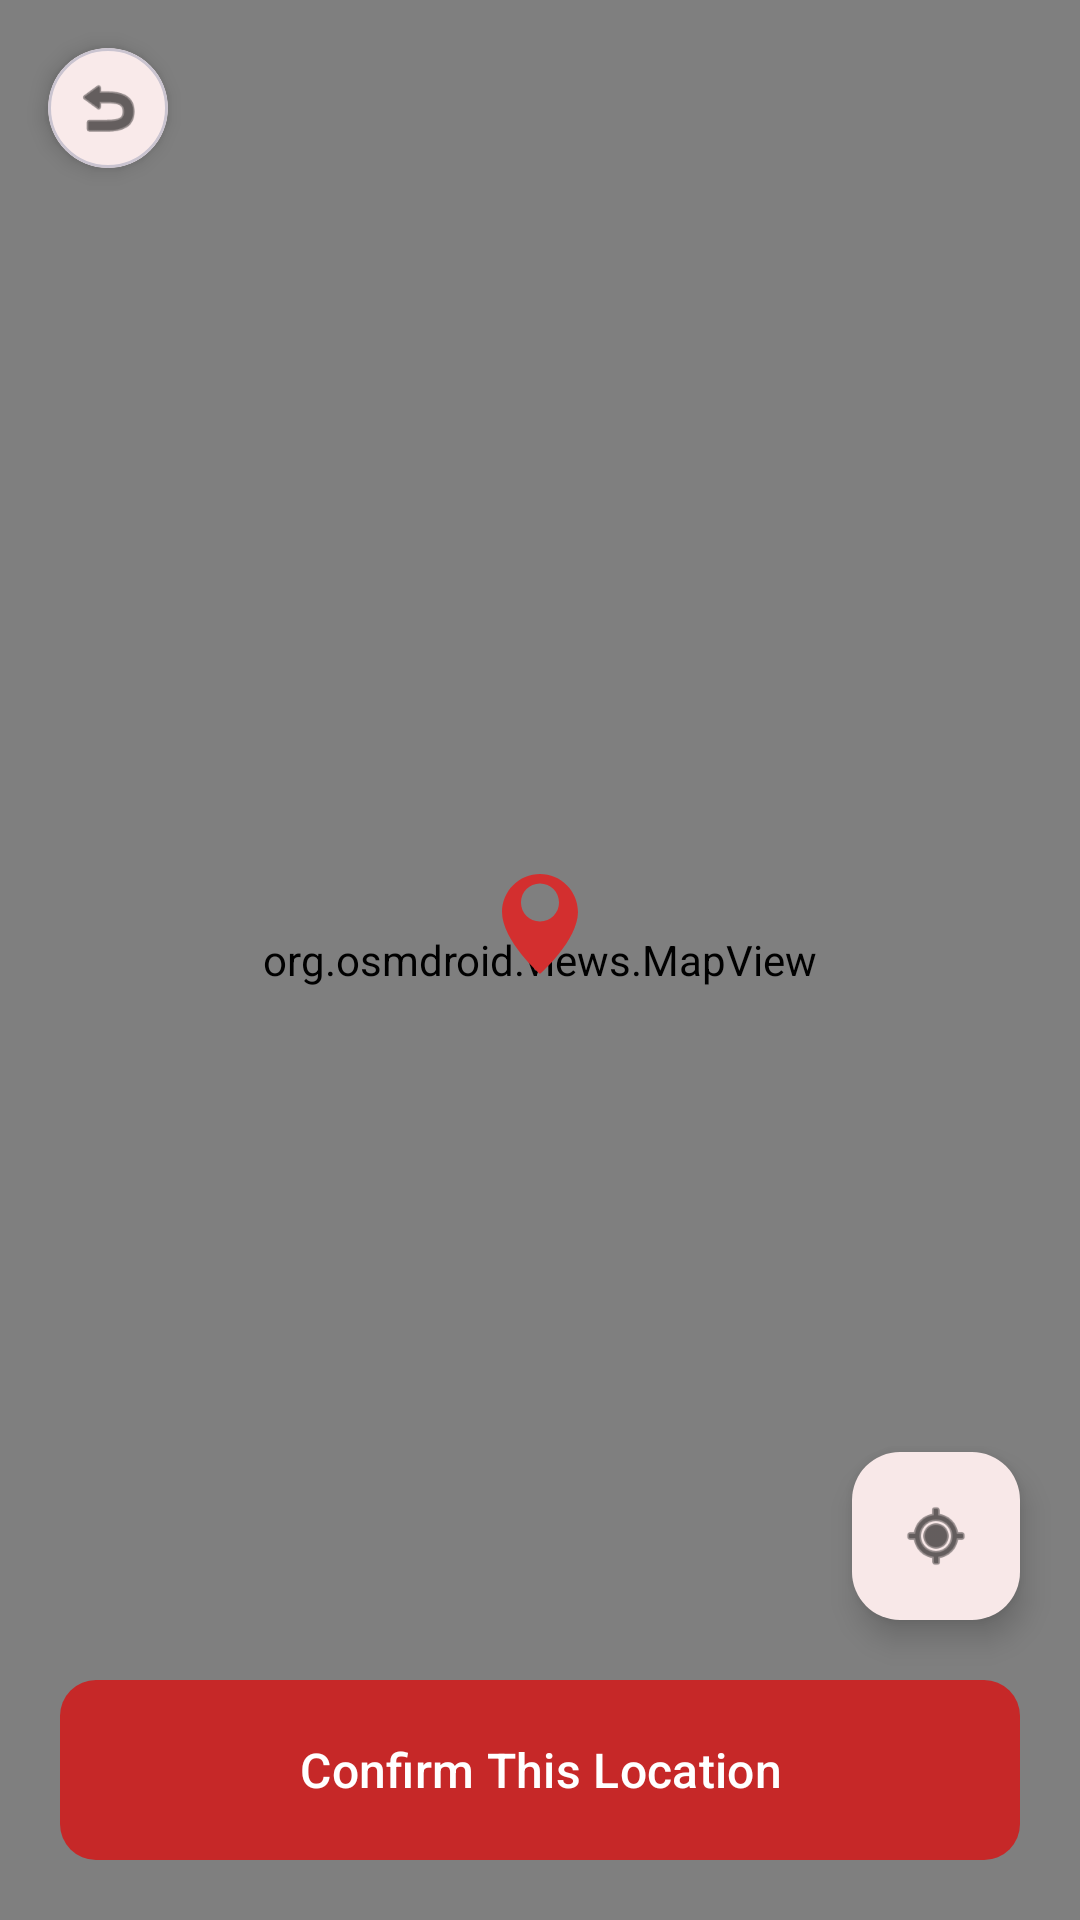

Icons on this 1080px x 1920px Android screen, each with the point to tap as (x=x, y=y):
location: (x=530, y=925)
mylocation: (x=936, y=1536)
revert: (x=109, y=108)
